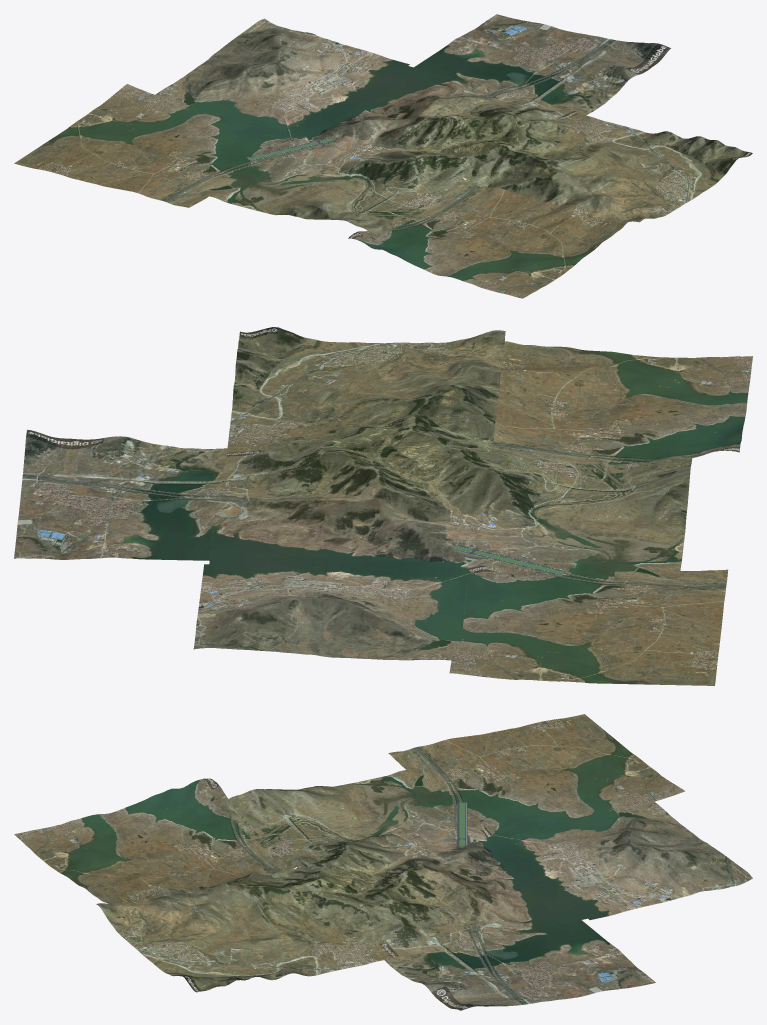
The picture shows the model from 3 angles, top to bottom: view 1: azimuth 30°, elevation 25°; view 2: azimuth 150°, elevation 25°; view 3: azimuth 270°, elevation 25°; orthographic projection. The views are drawn at different scales.
Parts seen in each view (by area): view 1: Locati05, Material #0, Location, Locati04, Locati03, Locati02, Locati01; view 2: Locati03, Material #0, Locati05, Location, Locati01, Locati04, Locati02; view 3: Locati05, Locati03, Material #0, Location, Locati04, Locati02, Locati01.
Part boxes in pixels (x1,y1,x2,y2): Locati05: [465, 113, 752, 222]; Material #0: [14, 84, 299, 207]; Location: [348, 173, 628, 298]; Locati04: [155, 18, 409, 137]; Locati03: [294, 65, 577, 179]; Locati02: [201, 137, 463, 234]; Locati01: [329, 14, 670, 140]; Locati03: [209, 431, 487, 570]; Material #0: [449, 565, 727, 685]; Locati05: [227, 327, 505, 453]; Location: [489, 341, 752, 469]; Locati01: [14, 429, 457, 560]; Locati04: [193, 564, 469, 660]; Locati02: [471, 451, 692, 576]; Locati05: [96, 868, 392, 992]; Locati03: [293, 835, 588, 958]; Material #0: [388, 714, 684, 838]; Location: [14, 778, 305, 904]; Locati04: [490, 801, 752, 919]; Locati02: [219, 768, 494, 868]; Locati01: [384, 844, 655, 1010].
Size of the model in its own units: 6609979 by 261501 by 6665772.
11 materials, 7 textured.
